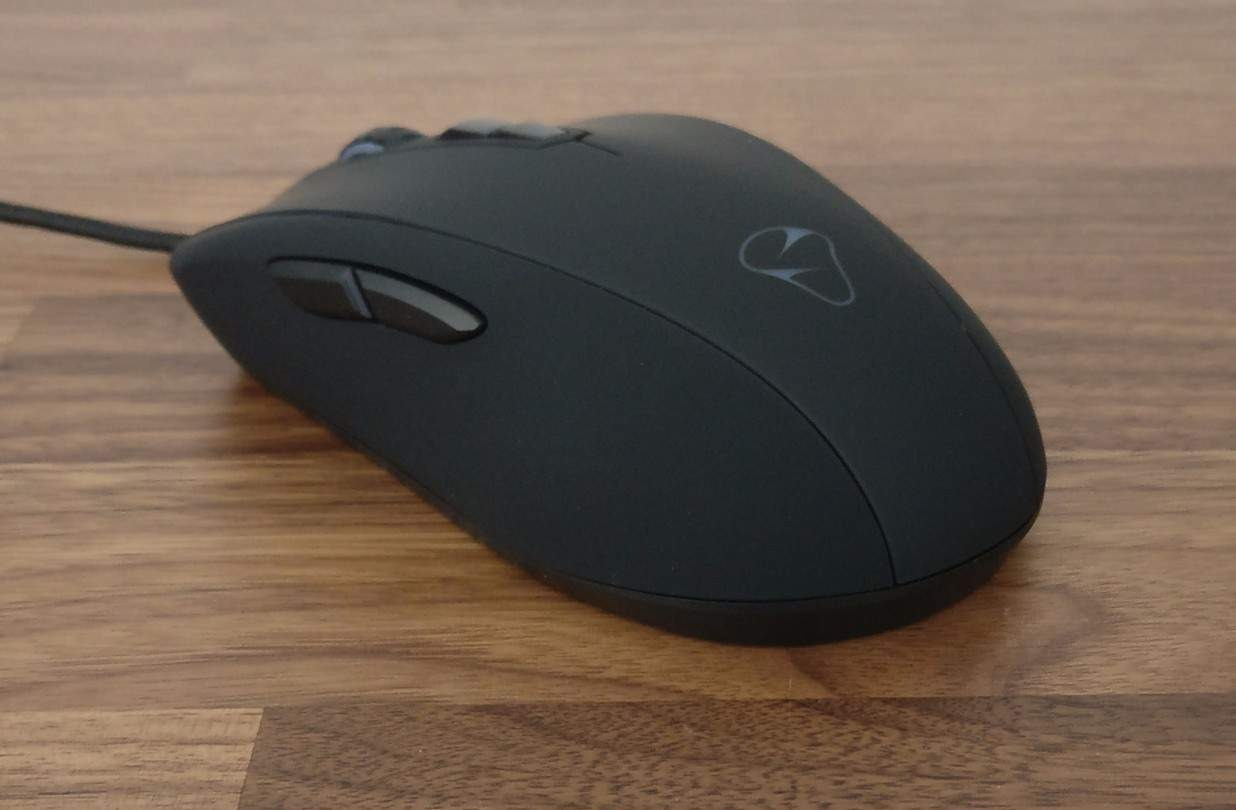mouse: (156, 75, 1064, 660)
